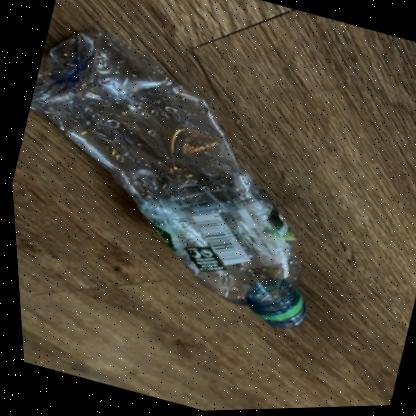Plastic: (27, 31, 301, 329)
